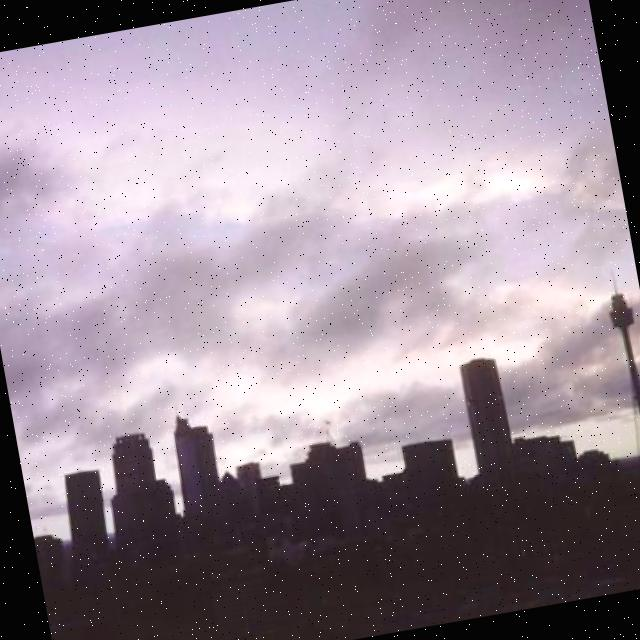St: (1, 1, 637, 386)
